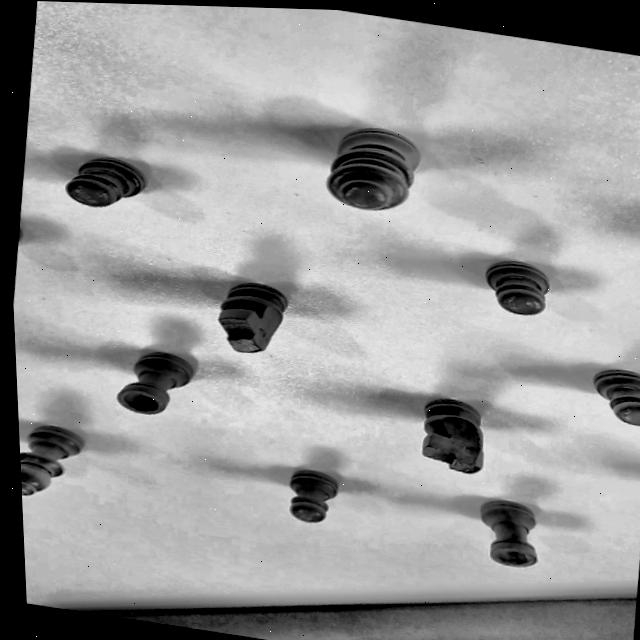black-bishop: (18, 415, 106, 512)
black-knight: (201, 273, 318, 366), (406, 385, 502, 483)
black-pawn: (451, 243, 586, 331), (49, 142, 168, 222), (262, 458, 354, 532), (571, 355, 640, 439)
black-queen: (292, 97, 454, 236)
black-rook: (102, 342, 212, 429), (462, 492, 557, 580)
